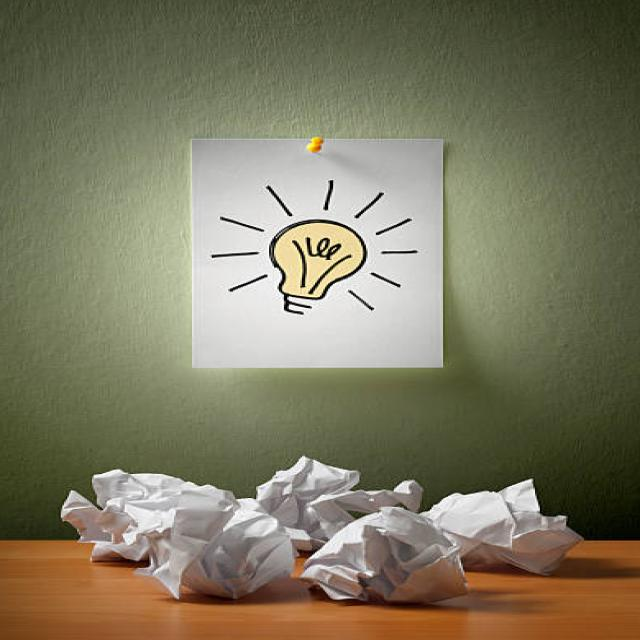electronic: (188, 136, 444, 368), (298, 506, 468, 604), (59, 468, 236, 562), (418, 478, 582, 576), (132, 502, 296, 600), (253, 454, 361, 550), (306, 478, 424, 544)
